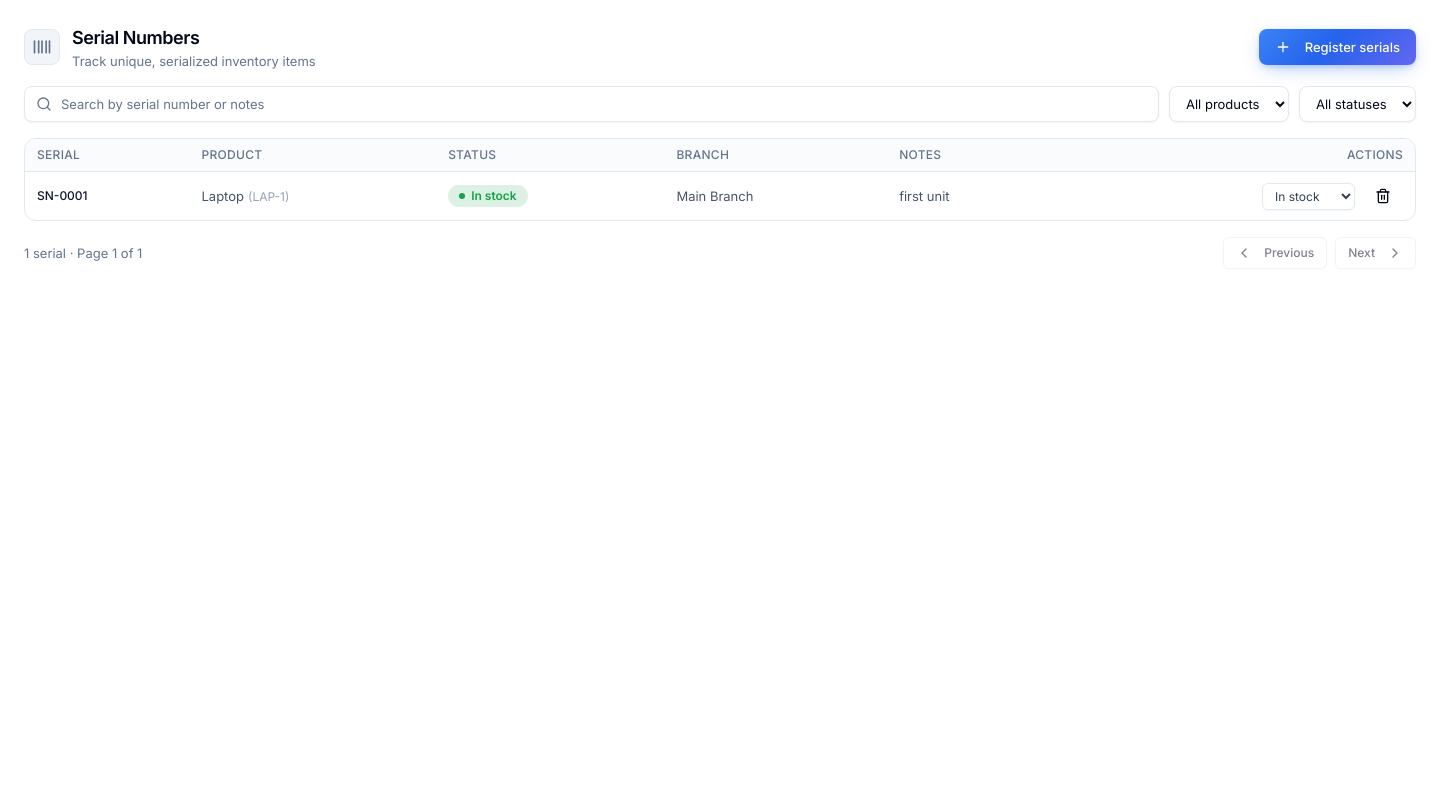
Test: SerialsView › opens the edit dialog when a serial number is clicked
Click the button "SN-0001" at {"x": 62, "y": 196}, box [37,188,88,204]
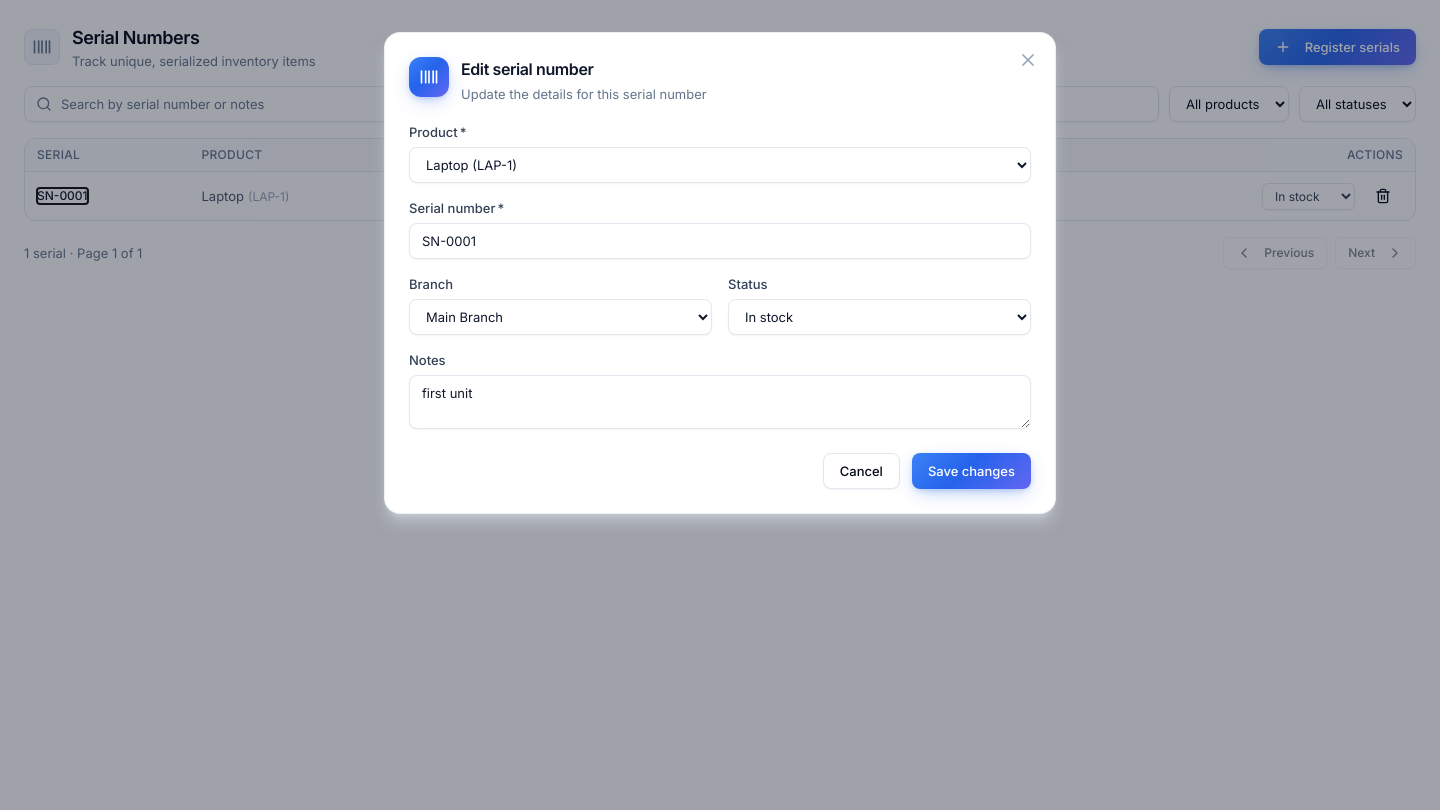
expect the dialog "Edit serial number" is shown: met
